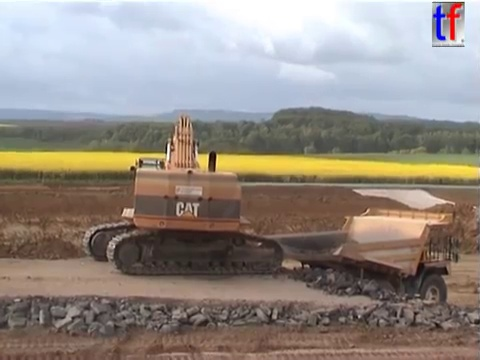excavator: (80, 112, 285, 278)
truck: (254, 205, 460, 325)
